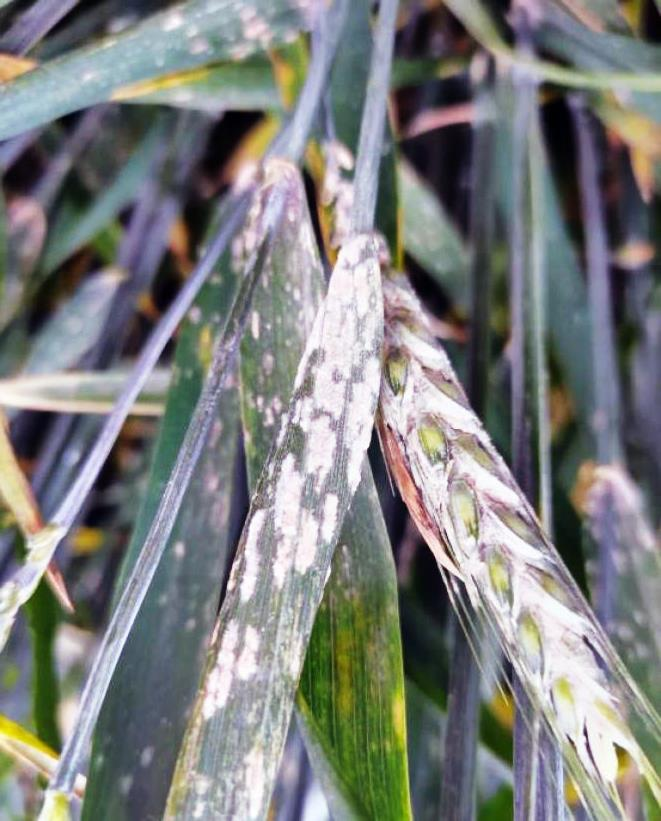Powdery Mildew: (211, 255, 391, 687)
